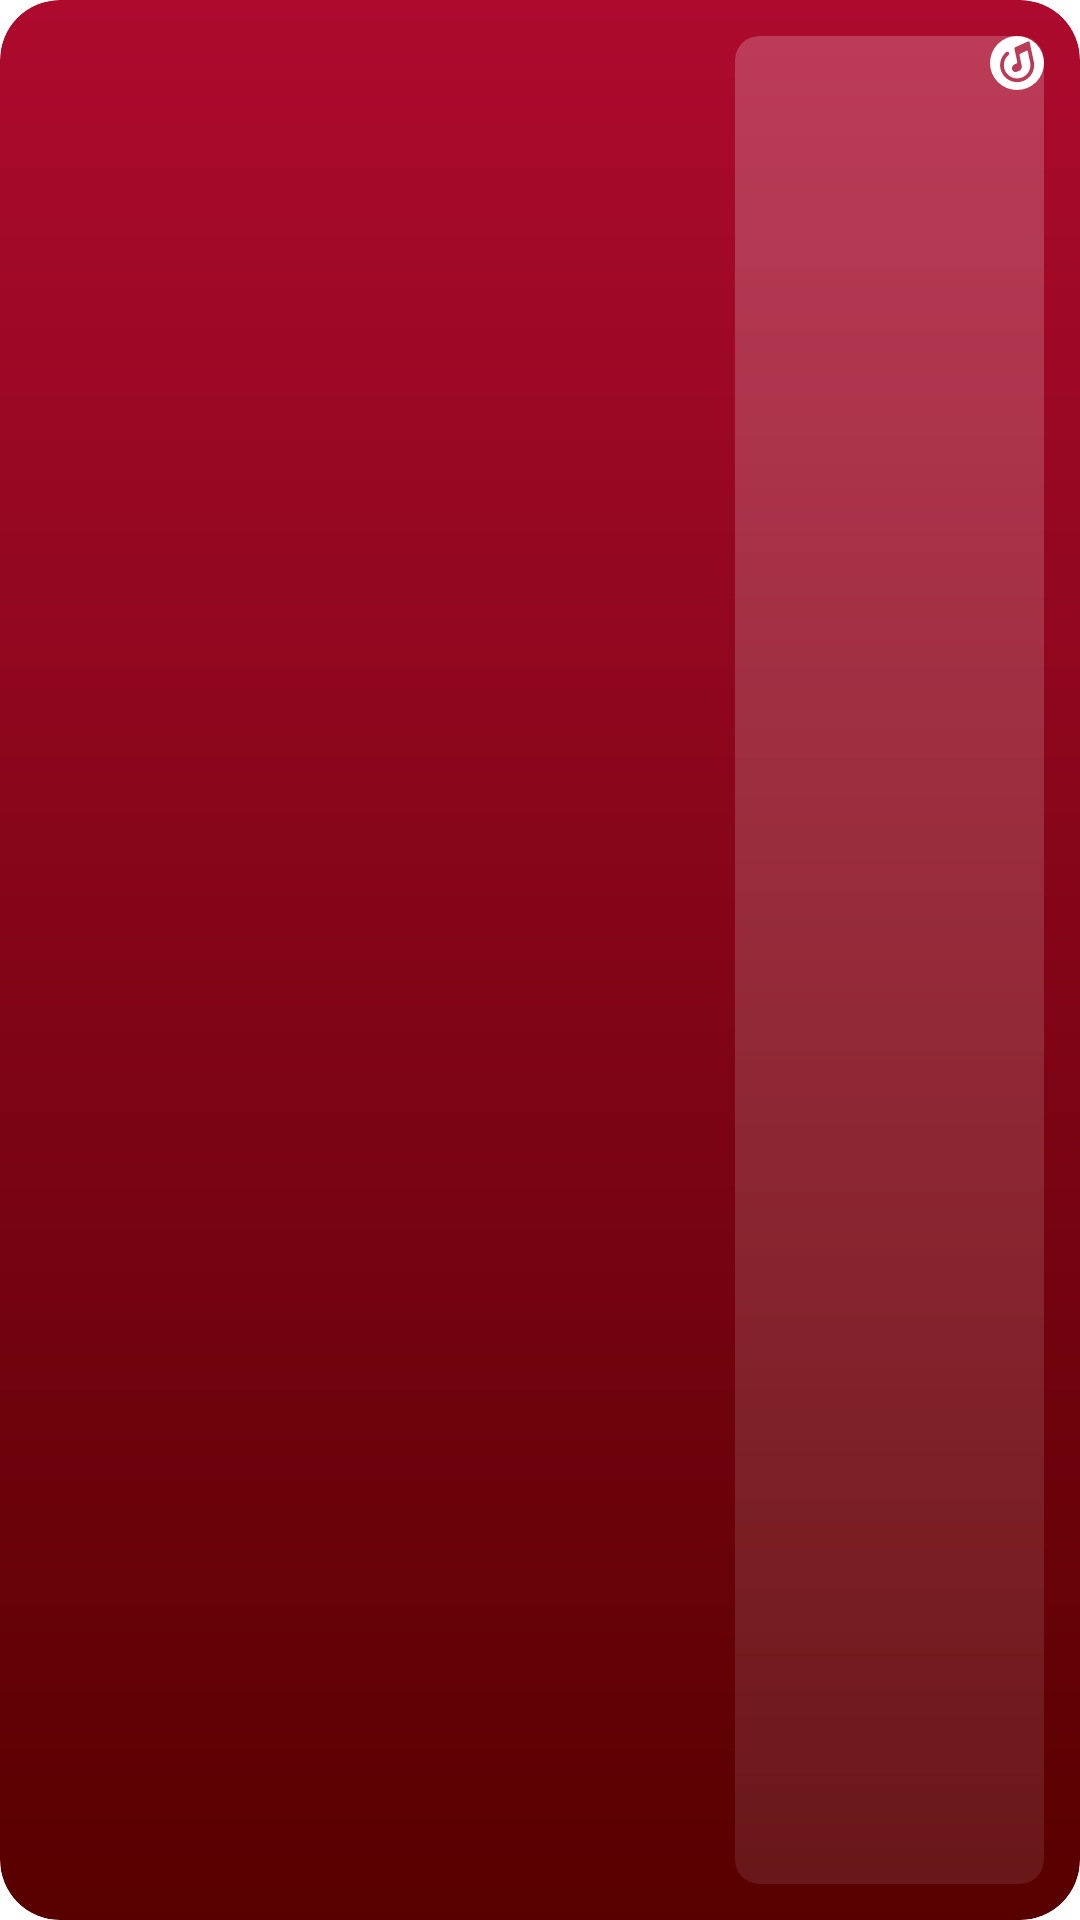

Named icons in this screenshot (1080×1920) and their centers, [x,y]:
Choose the music or shortcut shown on your home screen: [1017,63]
